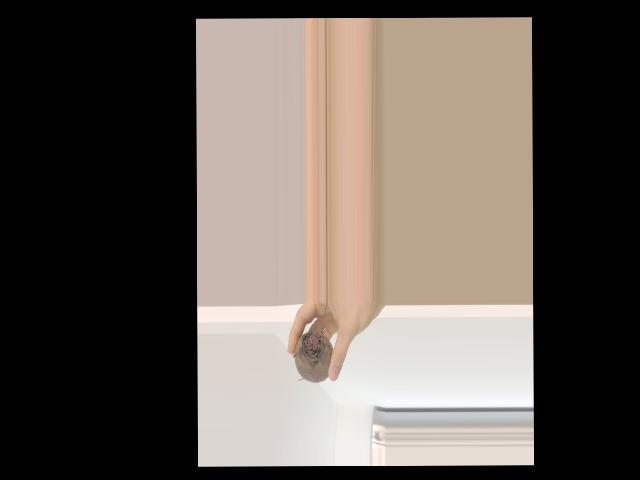beet: (292, 301, 334, 383)
